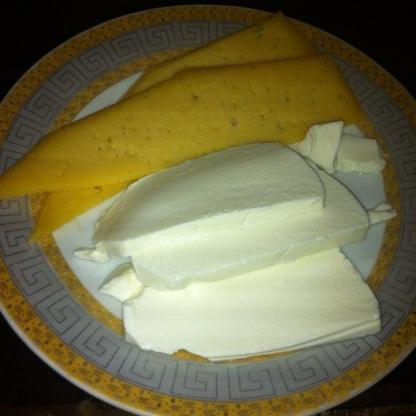mozarella cheese: (126, 162, 374, 289), (118, 246, 377, 354), (102, 146, 324, 262)
